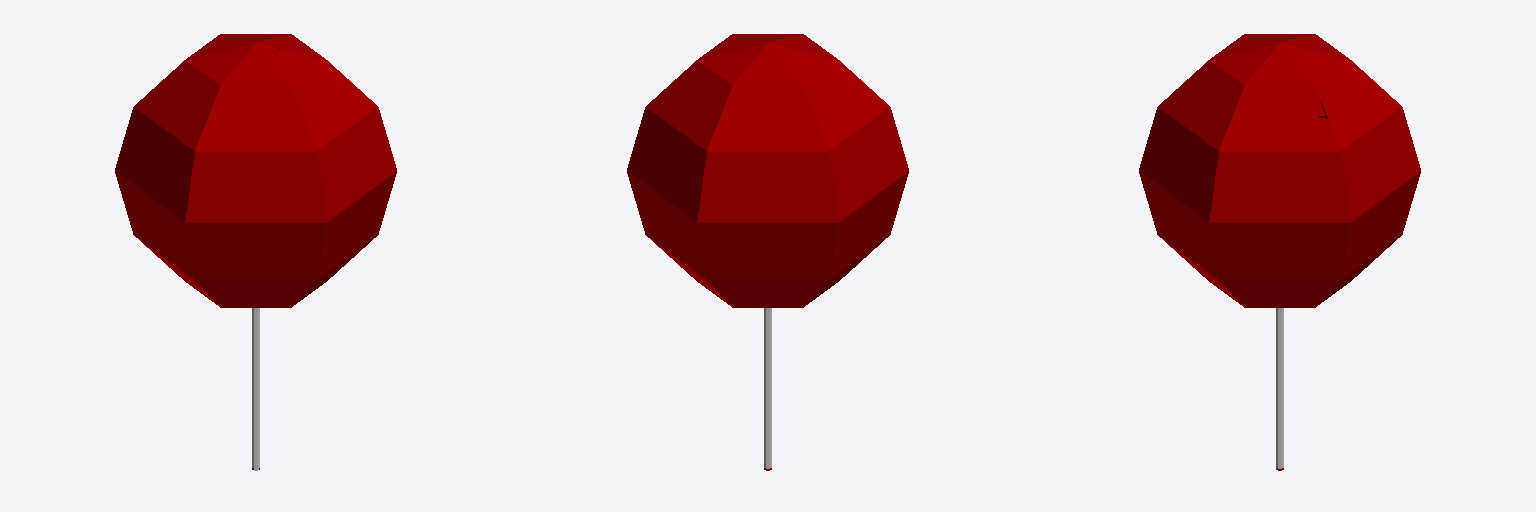
3 renders of one model, left to right at view 1: azimuth 30°, elevation 25°; view 2: azimuth 150°, elevation 25°; view 3: azimuth 270°, elevation 25°, orthographic.
Visible parts, largest first — view 1: 球.001; view 2: 球.001; view 3: 球.001.
Boxes of the visible parts, x1=… form: 球.001: x1=115, y1=34, x2=396, y2=470; 球.001: x1=627, y1=34, x2=908, y2=470; 球.001: x1=1139, y1=34, x2=1420, y2=470.
Size of the model in its own units: 1.3 by 2.5 by 1.5.
1 materials, 1 textured.